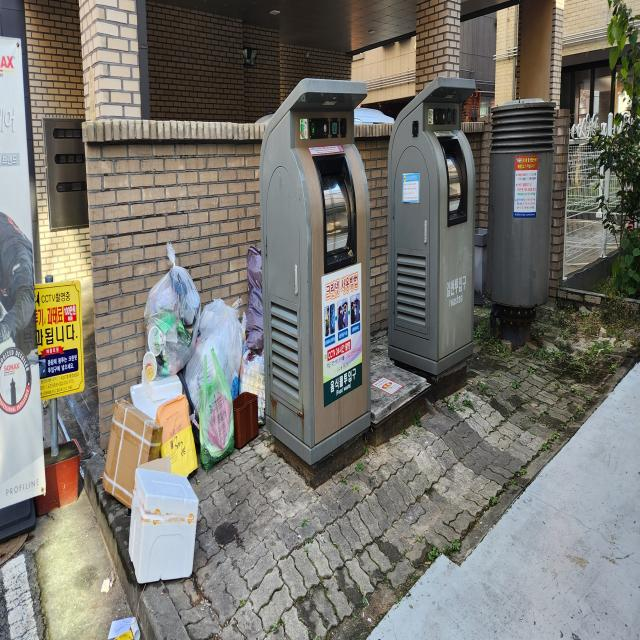CleanNet: (256, 62, 378, 482), (387, 68, 482, 411)
General Waste: (101, 373, 200, 606), (140, 244, 202, 387), (186, 296, 250, 408), (191, 342, 236, 466)
